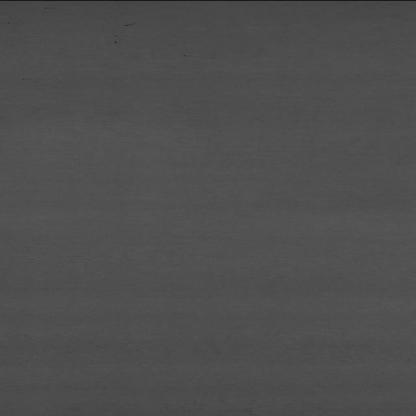inclusion: (97, 17, 154, 46)
